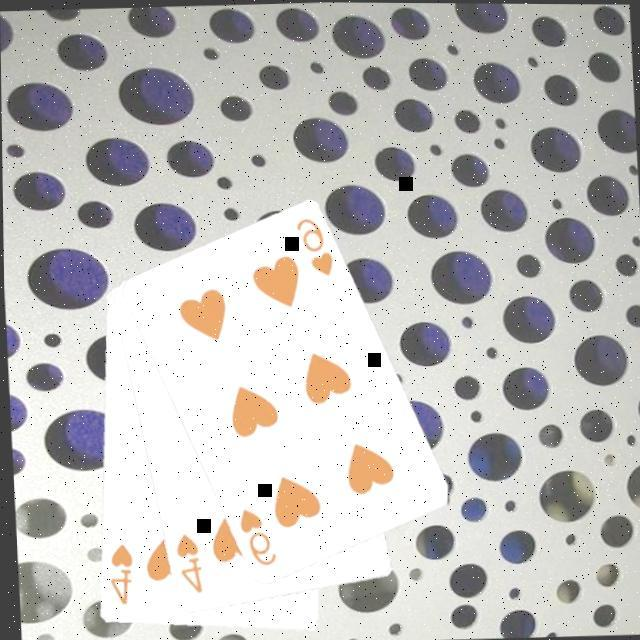4H: (99, 539, 133, 608), (167, 528, 202, 595)
6H: (289, 212, 334, 279), (231, 503, 276, 568)
